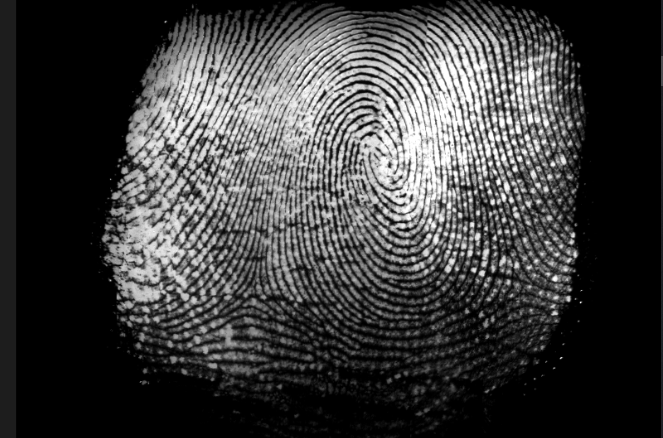nucelo: (356, 134, 396, 183)
verticilo: (235, 278, 267, 302), (506, 272, 533, 299)
